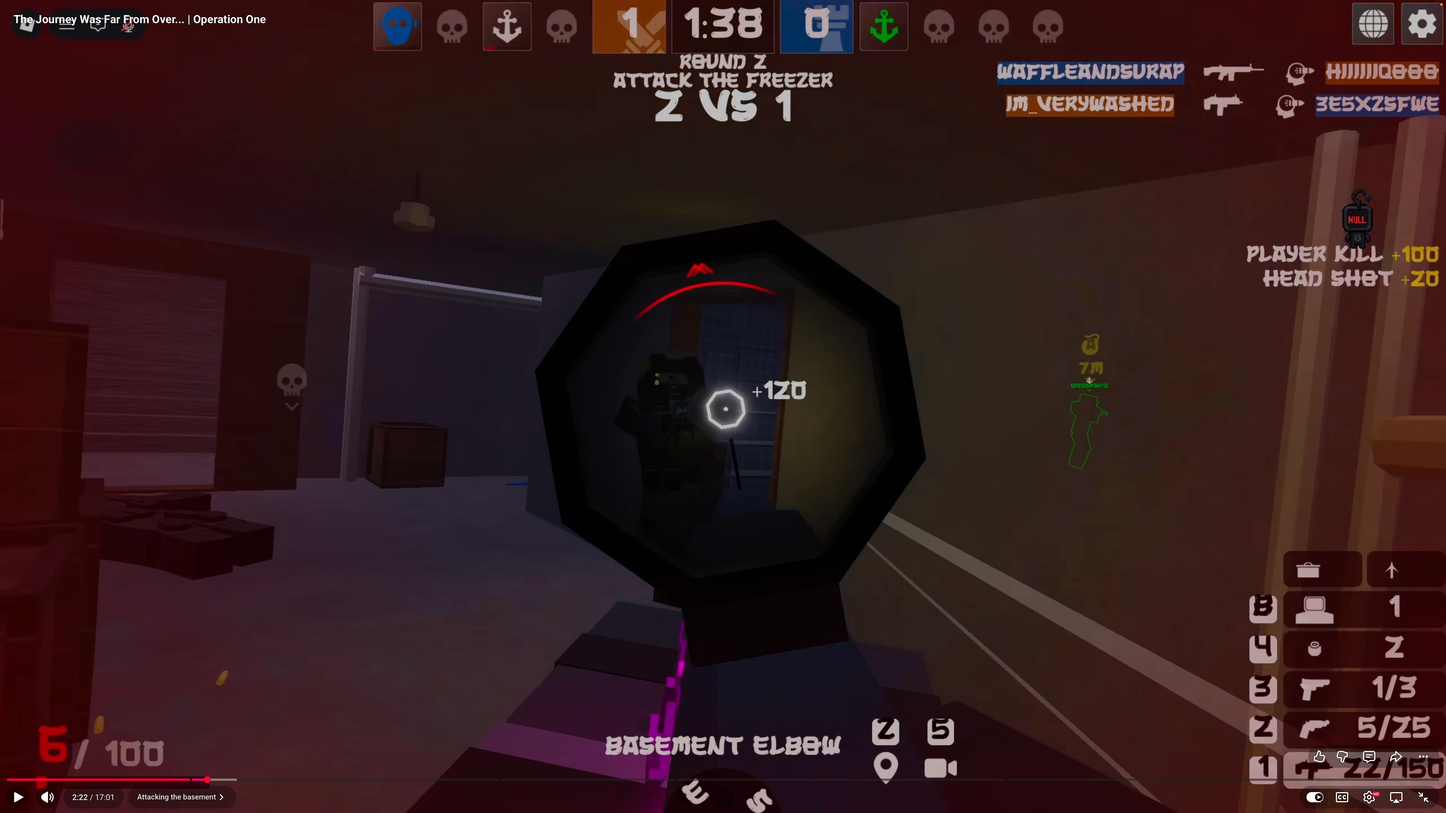enemy: (613, 347, 727, 583)
